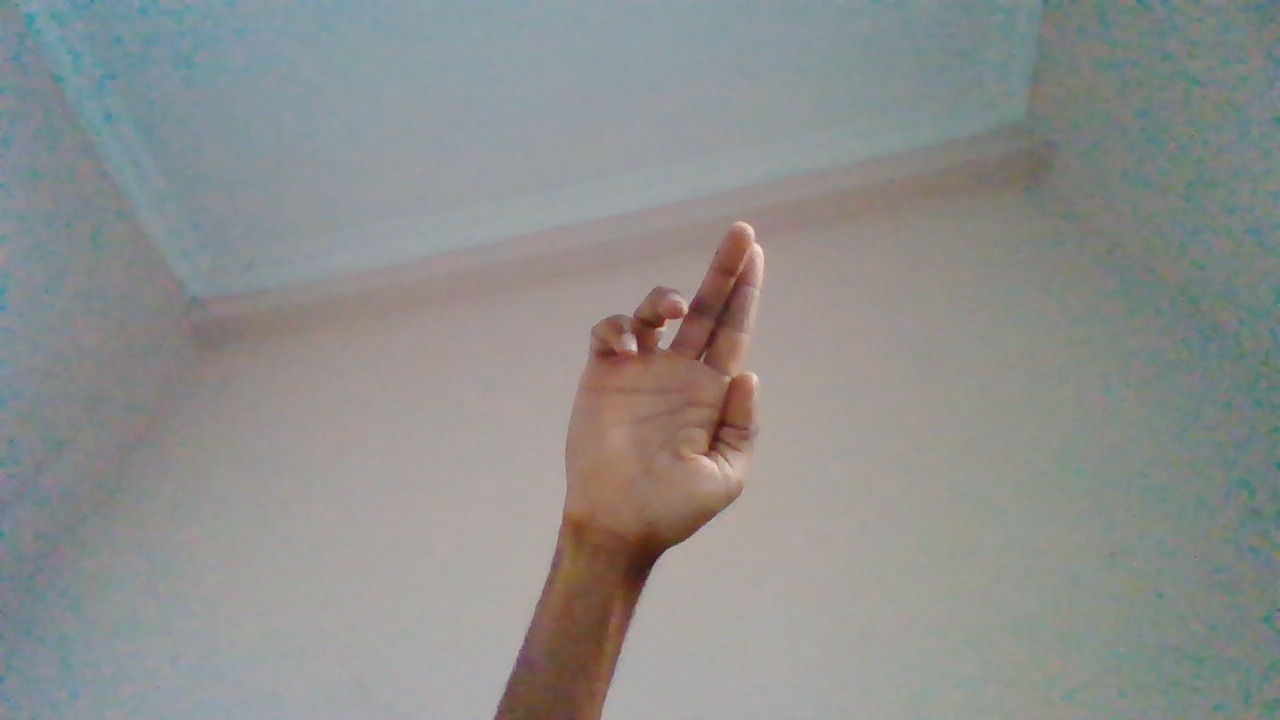gne: (562, 221, 767, 606)
